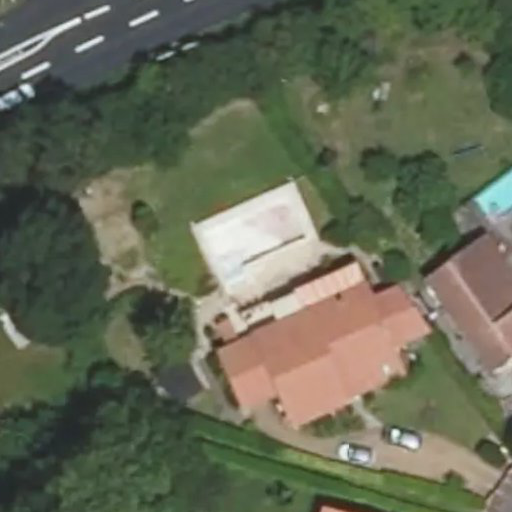pool: (199, 202, 302, 263), (476, 170, 512, 221)
